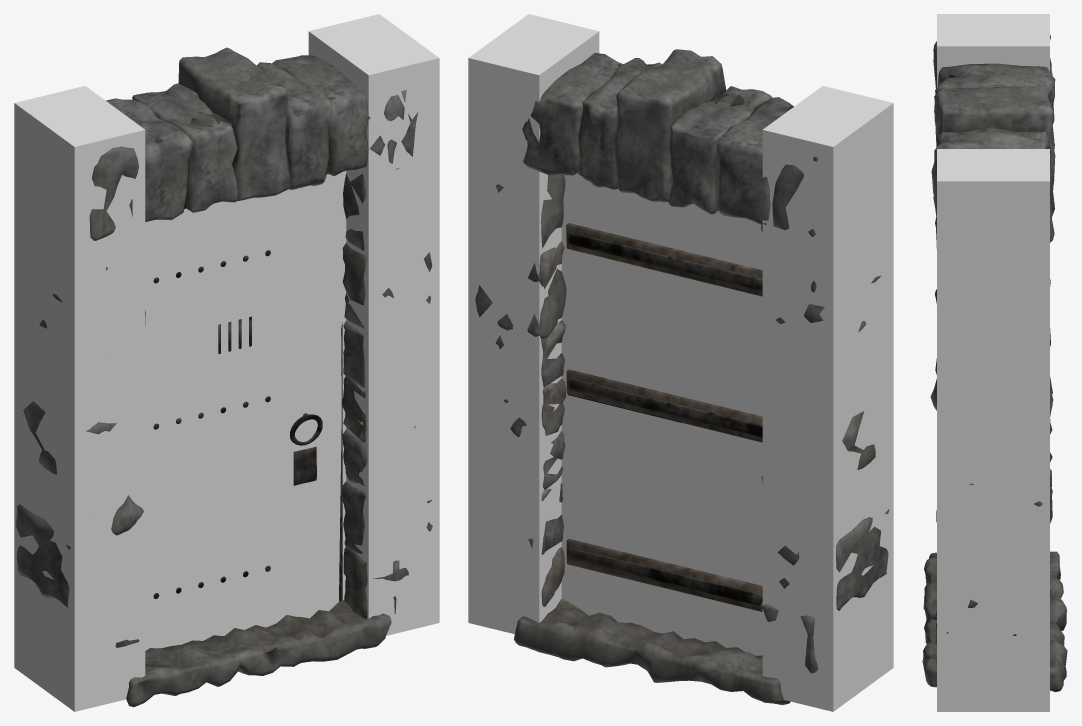
Rendered from door.glb.
3 renders of one model, left to right at view 1: azimuth 30°, elevation 25°; view 2: azimuth 150°, elevation 25°; view 3: azimuth 270°, elevation 25°, orthographic. The views are drawn at different scales.
Visible parts, largest first — view 1: col_door_leaf, col_door_jamb_l, frame, col_door_jamb_r, door; view 2: col_door_jamb_l, col_door_leaf, frame, col_door_jamb_r, door; view 3: col_door_jamb_r, frame, col_door_jamb_l.
Boxes of the visible parts, x1,y1,x2,y2 form: col_door_leaf: (145,171,346,650); col_door_jamb_l: (14,86,145,711); frame: (15,47,432,707); col_door_jamb_r: (308,14,439,635); door: (153,250,342,601); col_door_jamb_l: (762,86,893,711); col_door_leaf: (561,173,762,655); frame: (475,49,889,705); col_door_jamb_r: (468,14,599,634); door: (566,223,762,611); col_door_jamb_r: (937,149,1049,711); frame: (922,35,1067,692); col_door_jamb_l: (937,14,1049,87).
Bounding box in the file's own units: 1.99 × 2.99 × 0.719.
Materials: 1 (1 with a texture image).
